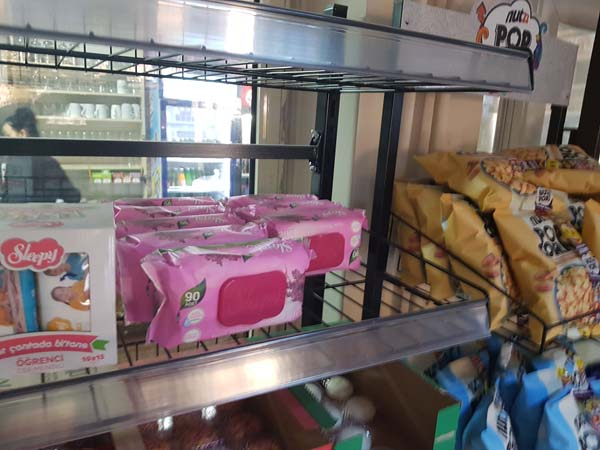sleepyislakmendil: (138, 240, 311, 348), (257, 205, 370, 271)
